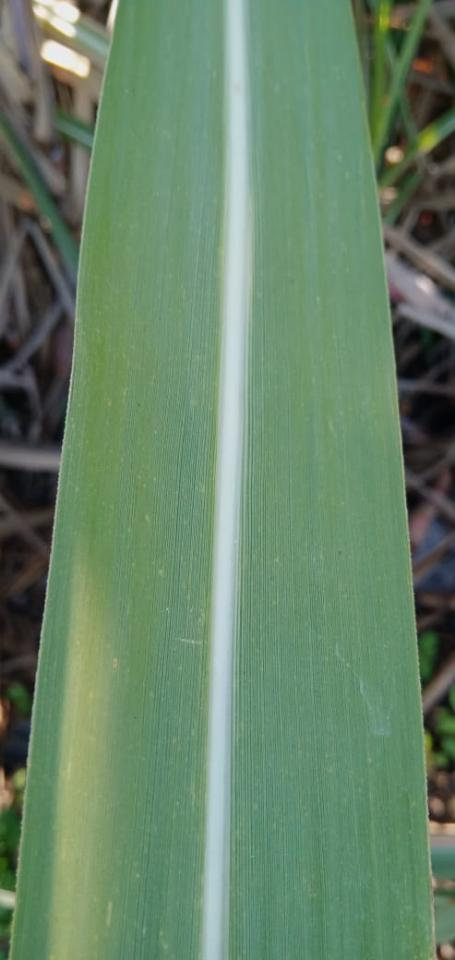Healthy: (11, 0, 432, 959)
